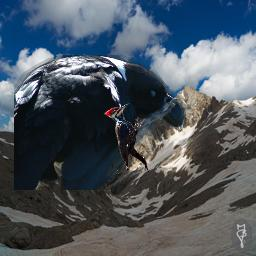Crow: (14, 55, 187, 190)
Woodpecker: (104, 103, 149, 172)
